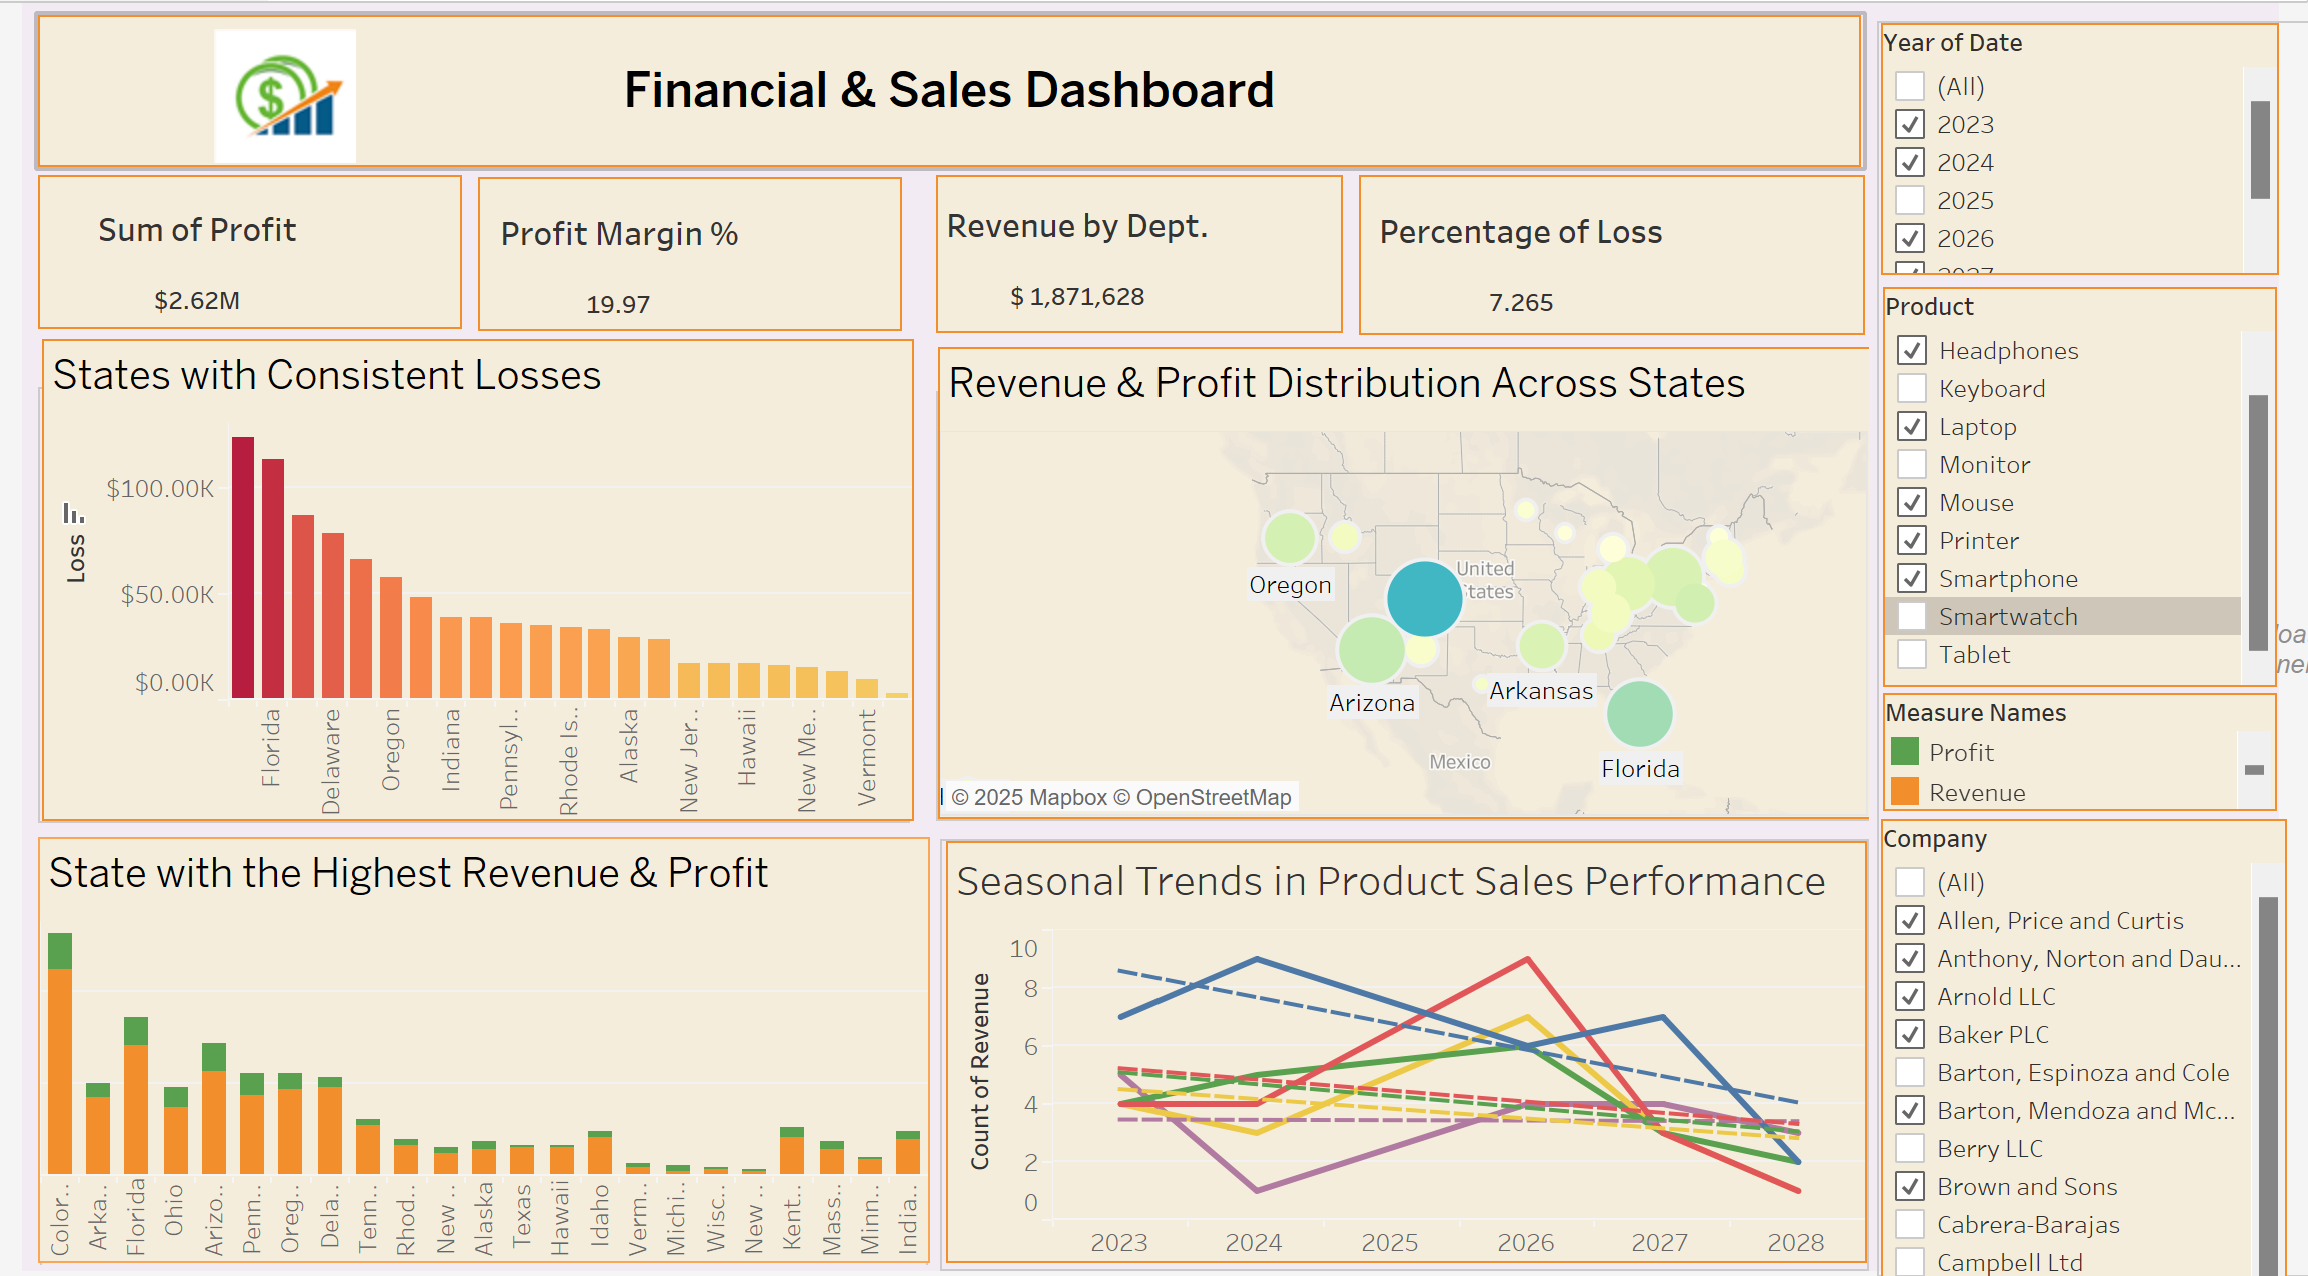

The dashboard page shown, as its layout file describes it:
{"tool":"tableau","page":{"name":"KPI Dashboard","canvas":[1000,1000],"units":"permille","ordinal":1},"visuals":[{"type":"text","box":[7.5,8.7,807.9,120.6]},{"type":"filter","title":"States with Consistent Losses Over different years by different Company","param":"[federated.1tnv4sj0qz6ii11cvoi6t00rl65m].[yr:Time:ok]","box":[823.7,16,176.3,199.1]},{"type":"image","param":"C:/Users/mdirf/Downloads/download.png","box":[56.8,20.4,119.5,106.1]},{"type":"worksheet","title":"Revenue by Dept.","mark":"Automatic","box":[405.9,133.7,179,125]},{"type":"worksheet","title":"Sum Of Profit","mark":"Automatic","box":[10.3,138.1,182.4,119.2]},{"type":"worksheet","title":"% of Loss","mark":"Automatic","box":[594.1,138.1,221.2,120.6]},{"type":"worksheet","title":"Profit Margin","mark":"Automatic","box":[203,141,189.3,116.3]},{"type":"filter","title":"Seasonal Trends in Product Sales Performance","param":"[federated.1tnv4sj0qz6ii11cvoi6t00rl65m].[none:Product:nk]","box":[824.6,223.8,174.6,315.4]},{"type":"worksheet","title":"States with Consistent Losses Over different years by different Company","mark":"Bar","rows":["Loss"],"cols":["State"],"box":[9.1,264.5,386.6,380.8]},{"type":"worksheet","title":"Revenue & Profit Distribution Across States","mark":"Automatic","box":[405.9,271.8,412.8,372.1]},{"type":"legend","title":"State with the Highest Revenue & Profit","param":"[federated.1tnv4sj0qz6ii11cvoi6t00rl65m].[:Measure Names]","box":[822.9,552.3,177.9,81.4]},{"type":"worksheet","title":"State with the Highest Revenue & Profit","mark":"Automatic","cols":["State"],"box":[7.5,658.4,395.2,335.8]},{"type":"worksheet","title":"Seasonal Trends in Product Sales Performance","mark":"Automatic","rows":["Revenue"],"cols":["Time"],"box":[409.4,661.3,407.7,332.9]}]}

Visuals, with their boxes on the dashboard's canvas, which has no fixed pixel size, in thousandths of its width and height (x1, y1, x2, y2). These are canvas units, not pixel positions in the 2308x1276 screenshot, which may show the page scaled, cropped or inside an application window:
text: x1=8, y1=9, x2=815, y2=129
"States with Consistent Losses Over different years by different Company" filter: x1=824, y1=16, x2=1000, y2=215
image: x1=57, y1=20, x2=176, y2=126
"Revenue by Dept." worksheet: x1=406, y1=134, x2=585, y2=259
"Sum Of Profit" worksheet: x1=10, y1=138, x2=193, y2=257
"% of Loss" worksheet: x1=594, y1=138, x2=815, y2=259
"Profit Margin" worksheet: x1=203, y1=141, x2=392, y2=257
"Seasonal Trends in Product Sales Performance" filter: x1=825, y1=224, x2=999, y2=539
"States with Consistent Losses Over different years by different Company" worksheet (Bar marks): x1=9, y1=264, x2=396, y2=645
"Revenue & Profit Distribution Across States" worksheet: x1=406, y1=272, x2=819, y2=644
"State with the Highest Revenue & Profit" legend: x1=823, y1=552, x2=1001, y2=634
"State with the Highest Revenue & Profit" worksheet: x1=8, y1=658, x2=403, y2=994
"Seasonal Trends in Product Sales Performance" worksheet: x1=409, y1=661, x2=817, y2=994
